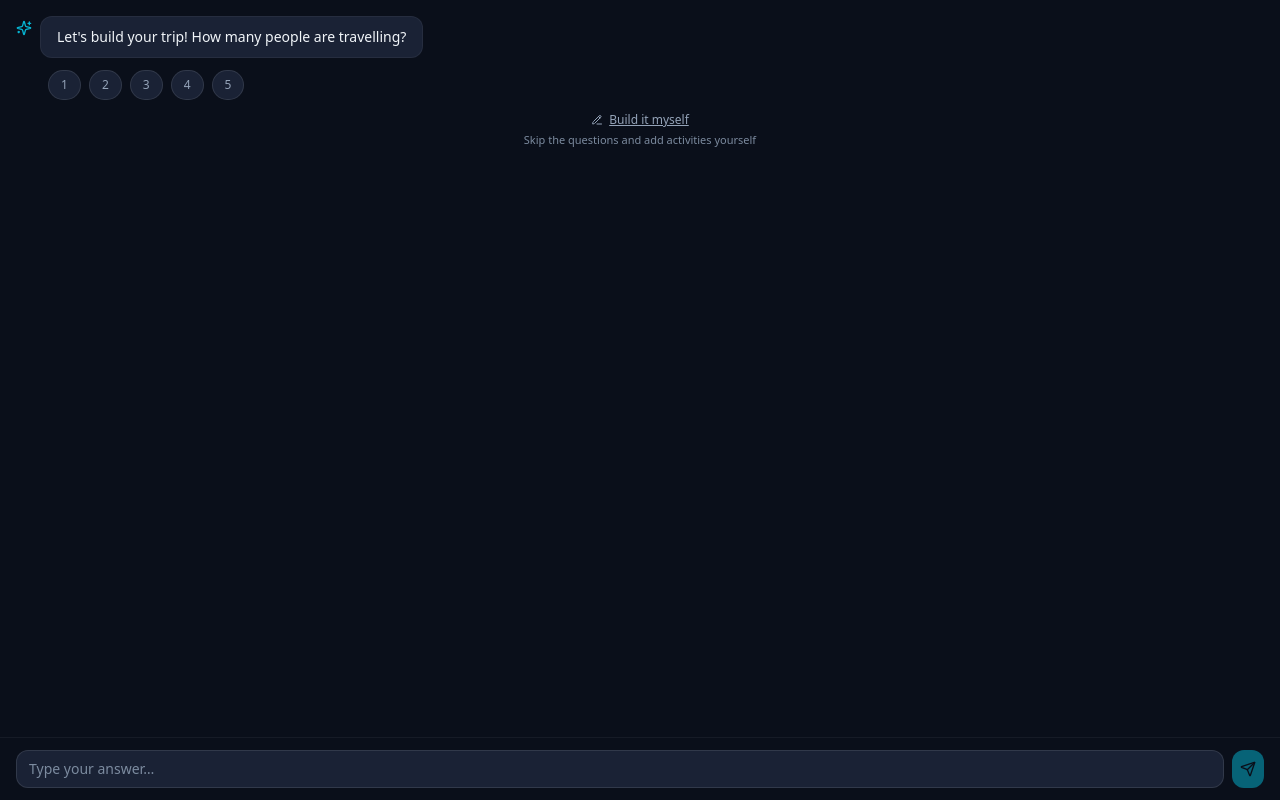
Test case: IntakeChat suggestions › answers immediately for a single-value question
Click the button with test id "intake-suggestion-2" at point(105, 85), box [89, 70, 122, 100]
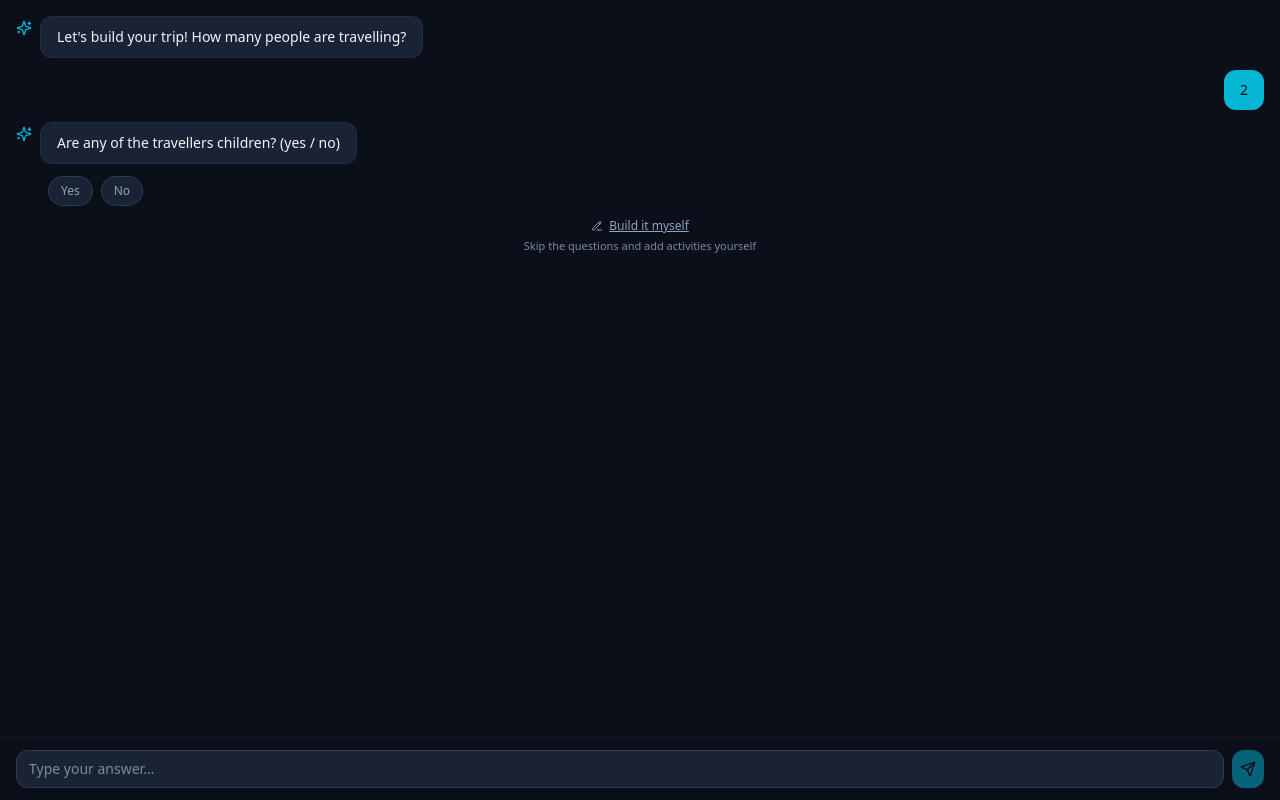
Now the text "Are any of the travellers children? (yes / no)" is shown, box [40, 122, 357, 164]
